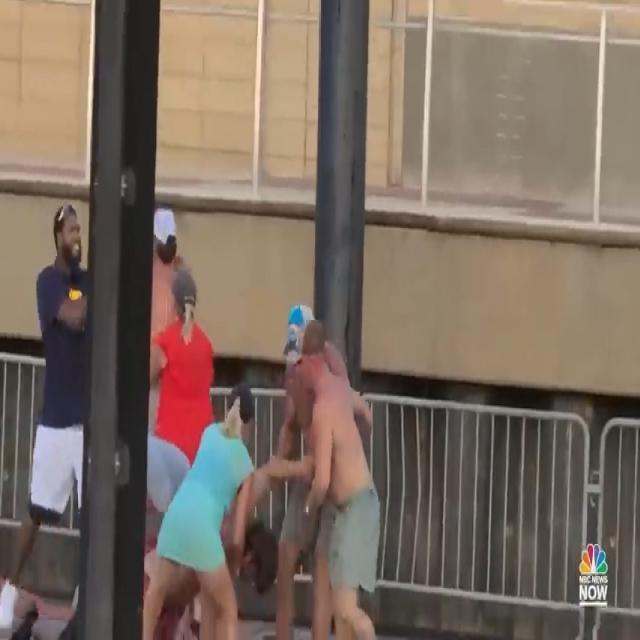fight: (1, 179, 387, 640)
